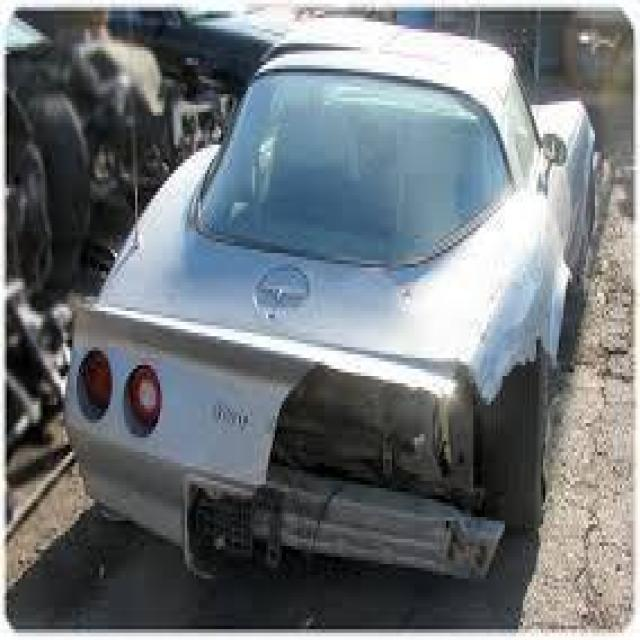damaged: (189, 358, 536, 597), (484, 271, 568, 391)
